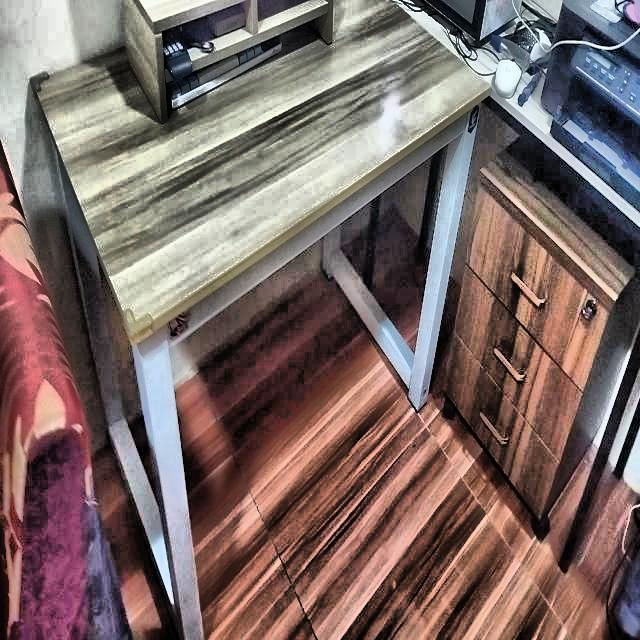mesa: (36, 0, 480, 640)
